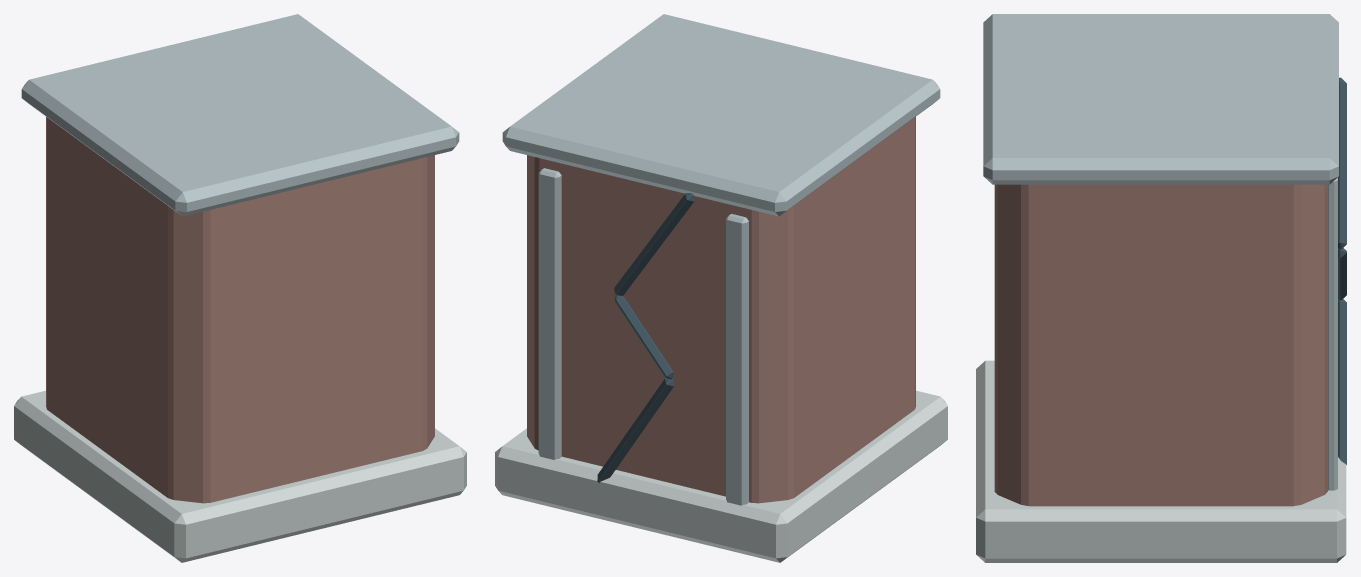
The model's file is wall-destructible.glb.
3 views of the same model, side by side, from view 1: azimuth 30°, elevation 25°; view 2: azimuth 150°, elevation 25°; view 3: azimuth 270°, elevation 25° (orthographic). The views are drawn at different scales.
Visible parts, largest first — view 1: wall, asset_wall-destructible__FP_Steel, foot; view 2: wall, asset_wall-destructible__FP_Steel, foot, asset_wall-destructible__FP_Dark; view 3: wall, asset_wall-destructible__FP_Steel, foot, asset_wall-destructible__FP_Dark.
Boxes of the visible parts, <box> form: wall: <box>46,117,434,503</box>; asset_wall-destructible__FP_Steel: <box>21,14,459,216</box>; foot: <box>14,390,466,562</box>; wall: <box>527,117,915,503</box>; asset_wall-destructible__FP_Steel: <box>502,14,940,505</box>; foot: <box>495,390,947,562</box>; asset_wall-destructible__FP_Dark: <box>597,193,694,482</box>; wall: <box>994,184,1327,506</box>; asset_wall-destructible__FP_Steel: <box>983,14,1338,490</box>; foot: <box>976,360,1346,562</box>; asset_wall-destructible__FP_Dark: <box>1338,77,1346,464</box>.
Size of the model in its own units: 1 by 1.2 by 1.
